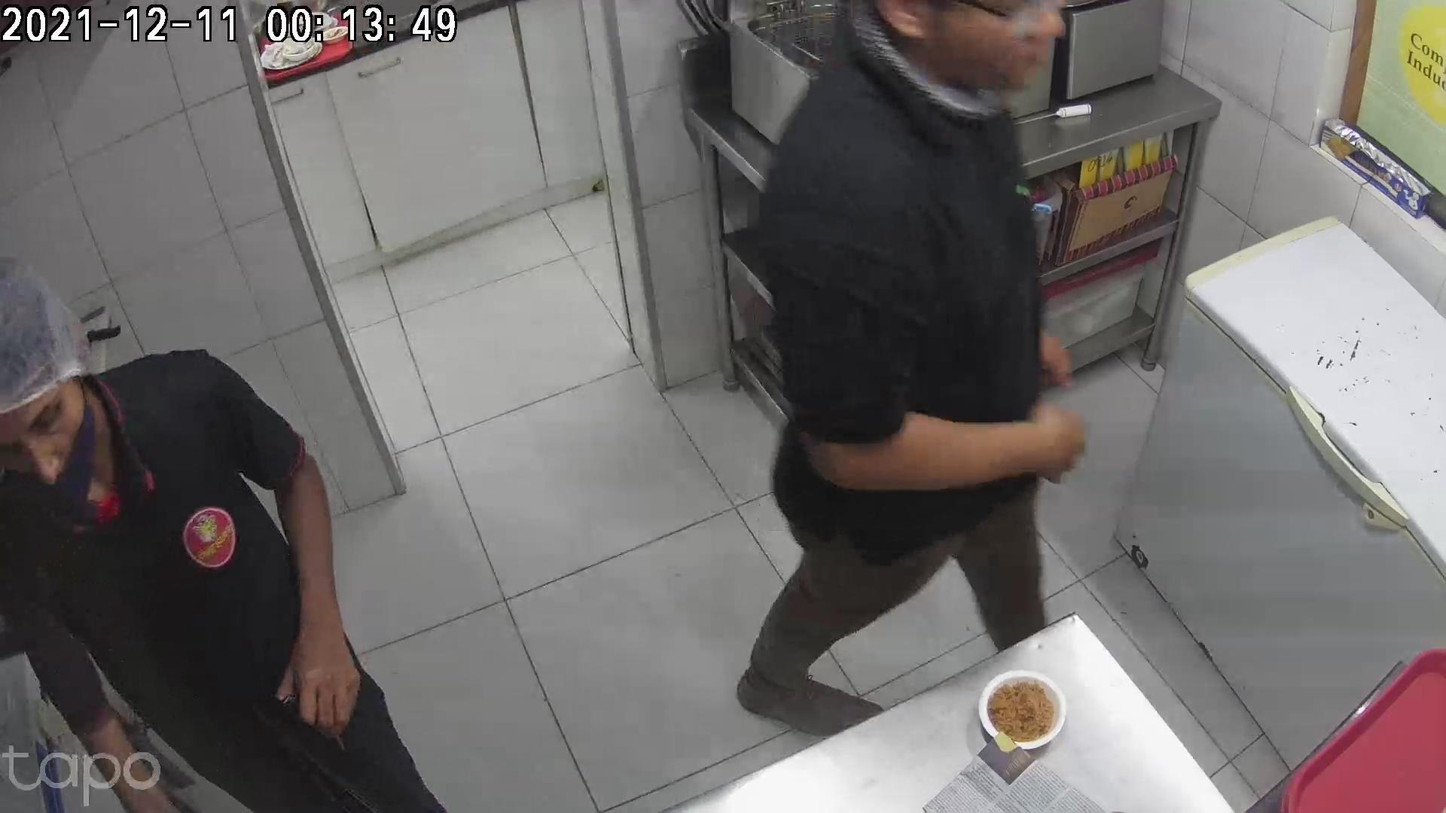no_gloves: (273, 588, 360, 728)
